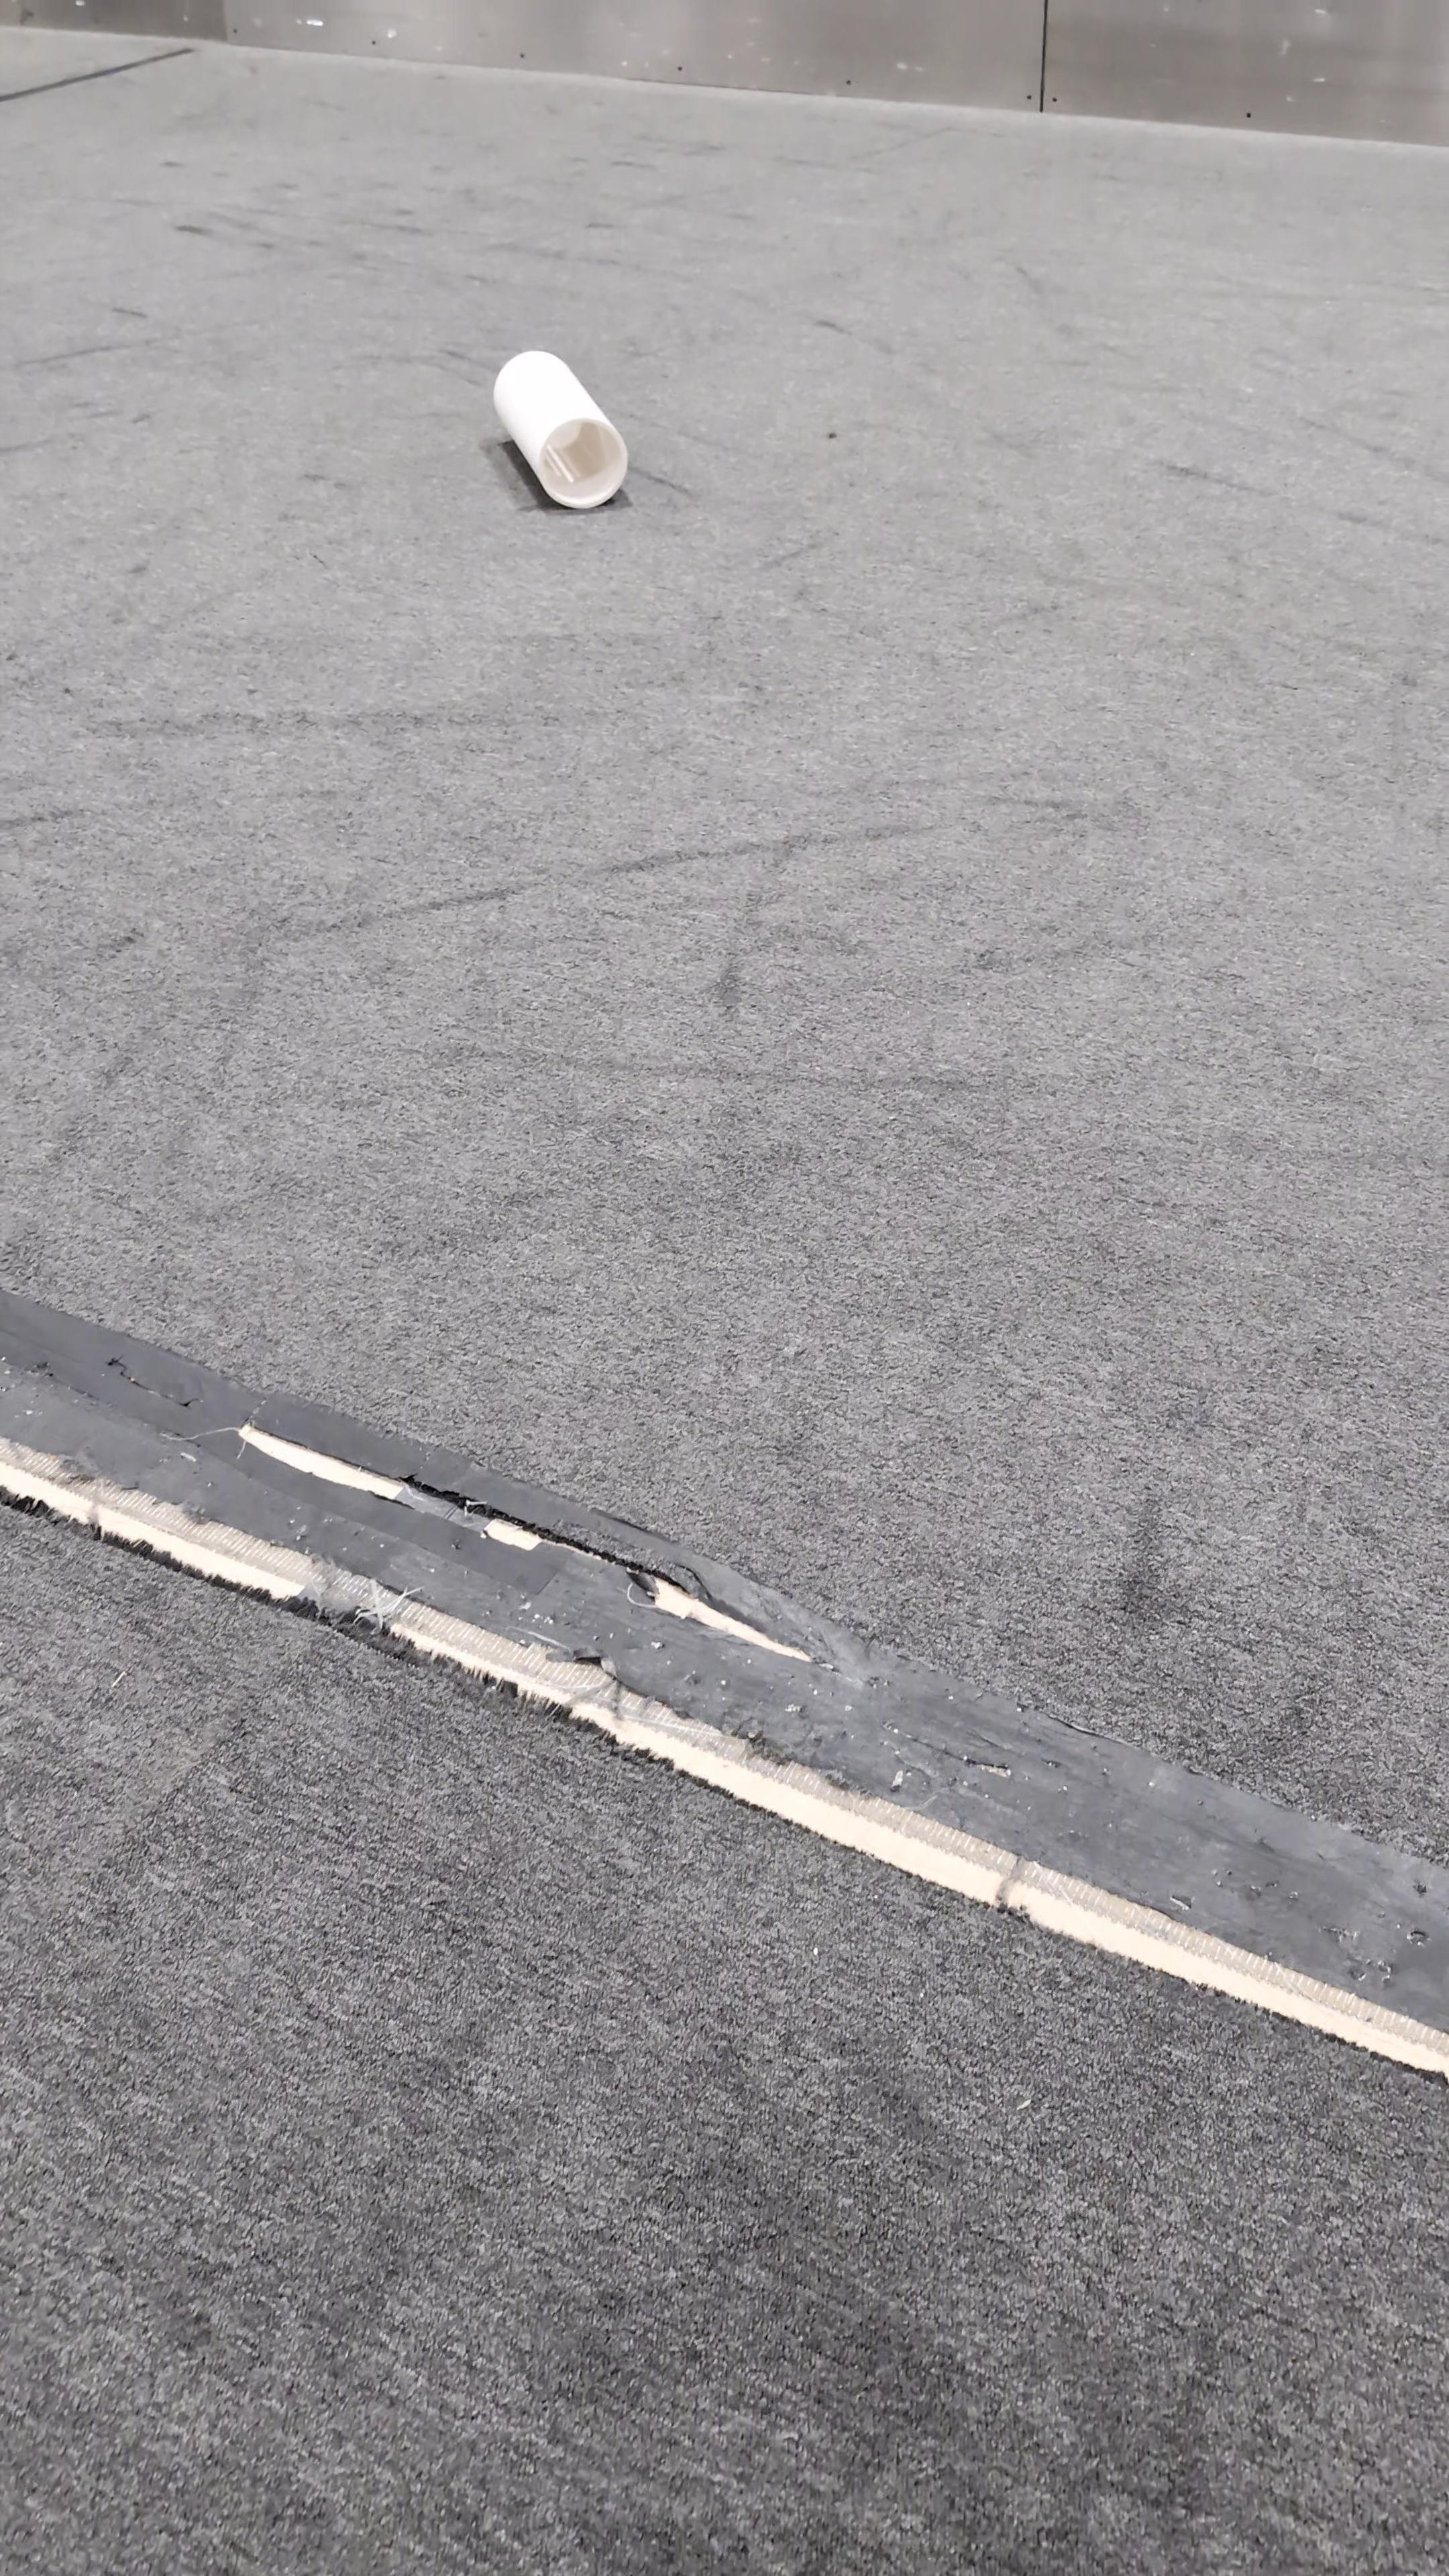coral: (494, 343, 633, 506)
